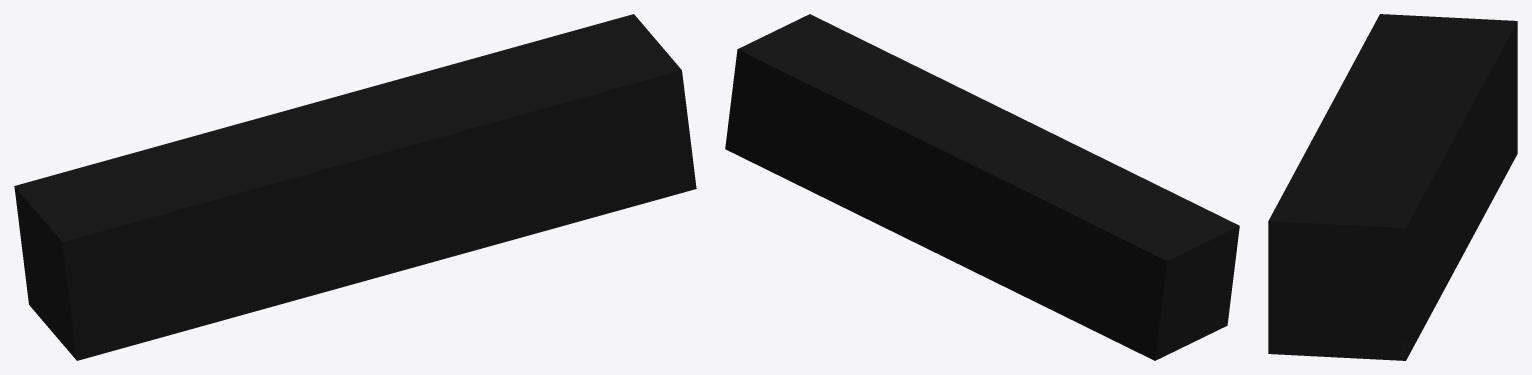
File: frame__front_brace_1.glb
The picture shows the model from 3 angles, left to right: view 1: azimuth 30°, elevation 25°; view 2: azimuth 150°, elevation 25°; view 3: azimuth 270°, elevation 25°; orthographic projection. The views are drawn at different scales.
Visible parts, largest first — view 1: world; view 2: world; view 3: world.
Part boxes in pixels (x1=…): world: x1=14, y1=14, x2=696, y2=360; world: x1=725, y1=14, x2=1239, y2=360; world: x1=1268, y1=14, x2=1517, y2=360.
Bounding box in the file's own units: 0.2543 × 0.0806 × 0.0893.
Materials: 1 (1 with a texture image).
